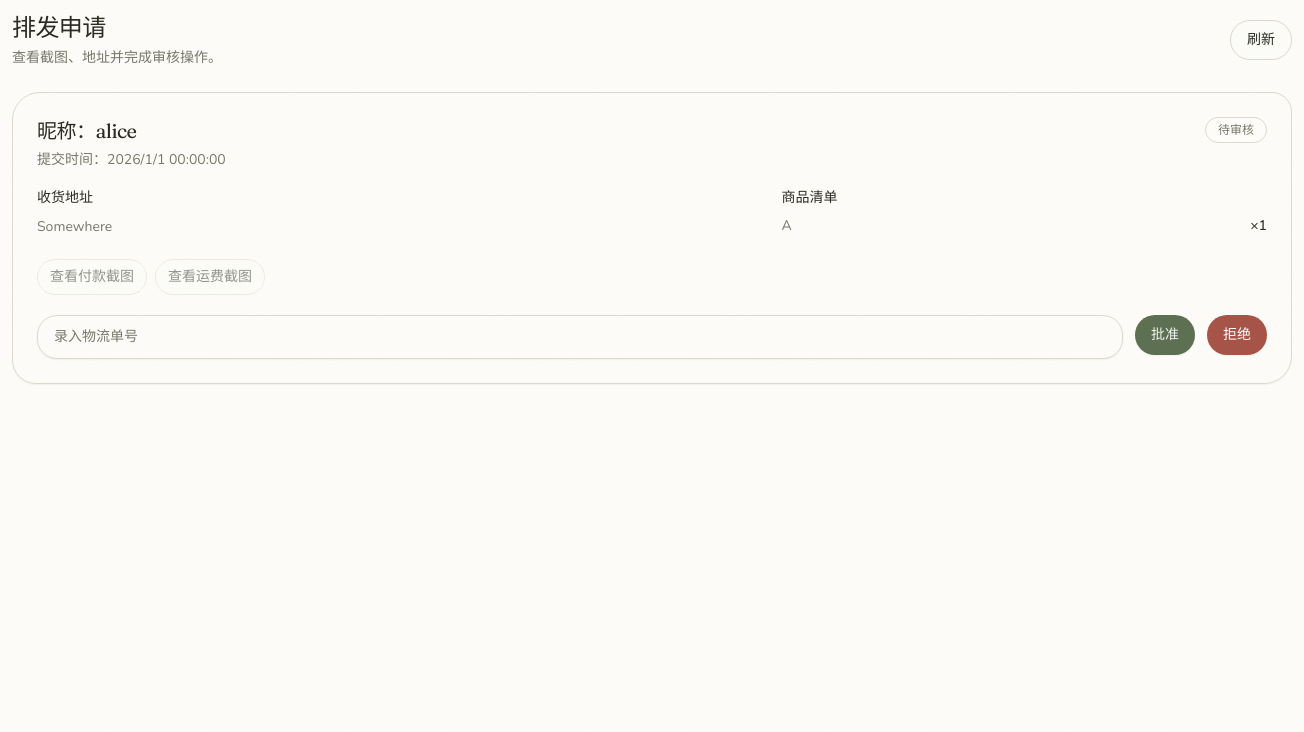
Test: RequestList blocks approve without tracking number
This screenshot has width=1304, height=732.
Expected: the heading "昵称：alice" is shown, [37,118,136,143]
Click the button "批准" at (1165, 334), box [1135,314,1195,354]
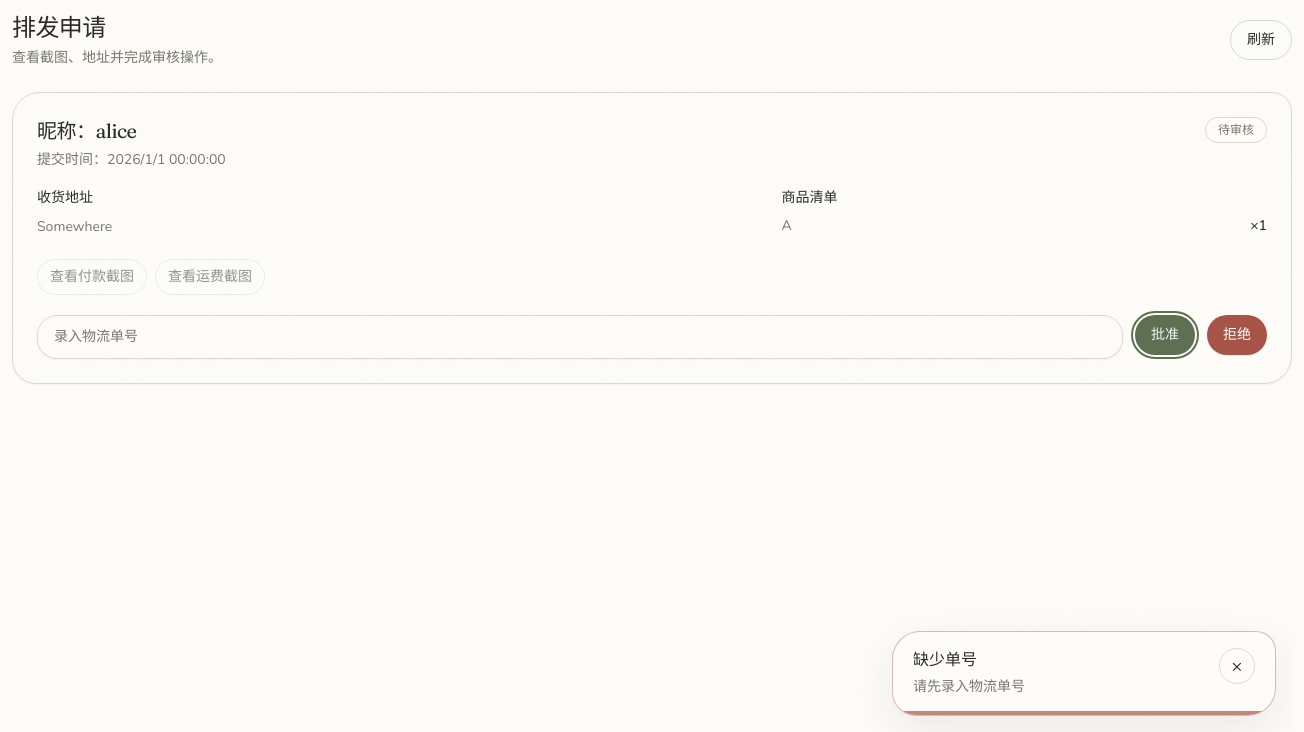
Expected: the text "缺少单号" is shown, [913,649,977,671]
